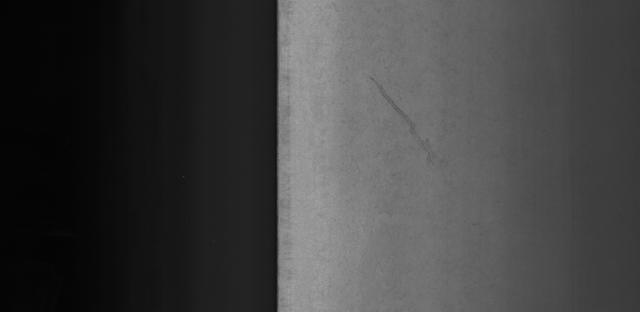water_spot: (366, 72, 451, 169)
